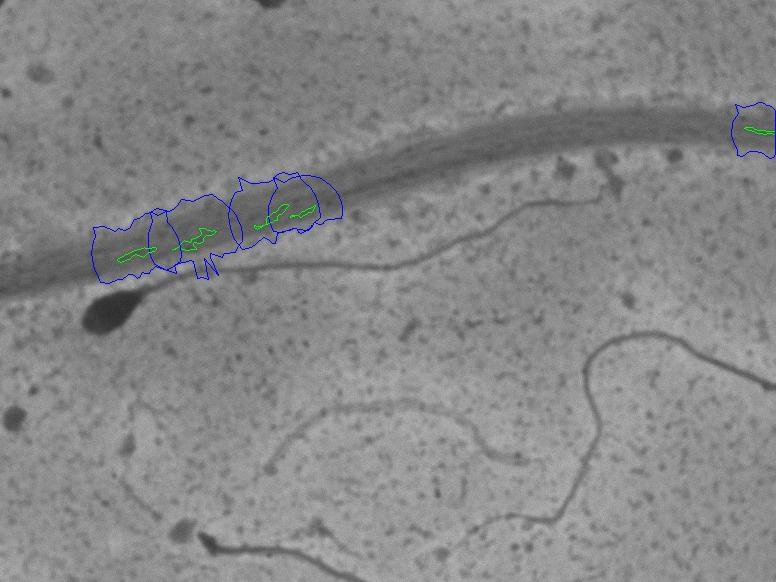Normal: (73, 185, 612, 347)
